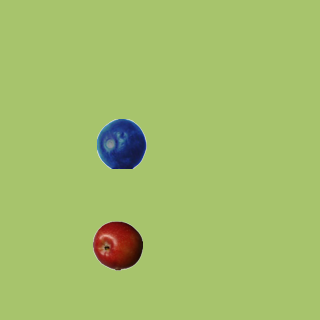Apple Braeburn: (92, 220, 142, 270)
Huckleberry: (96, 118, 146, 168)
